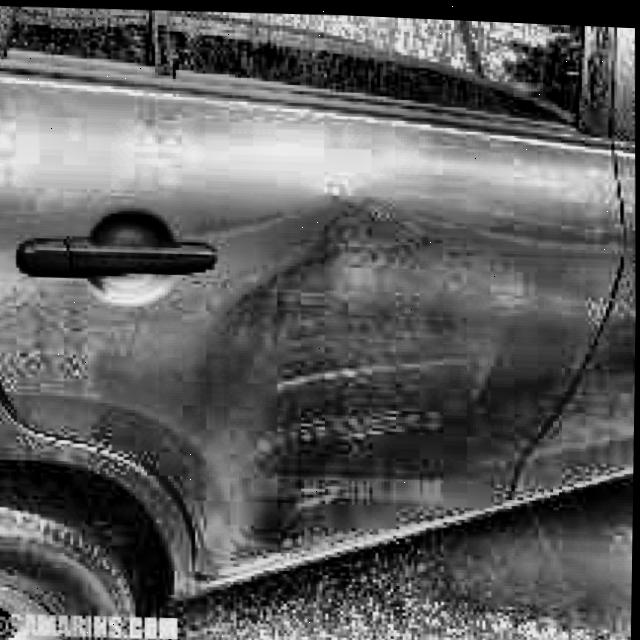door_dent: (241, 195, 409, 307)
